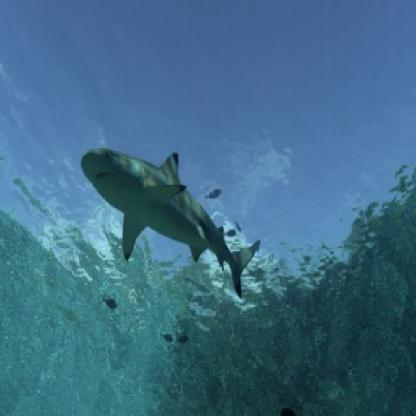shark: (79, 144, 257, 297)
